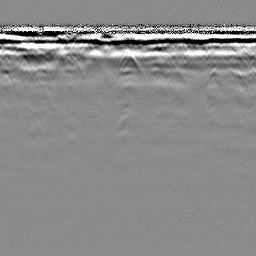cavity: (118, 48, 139, 68)
